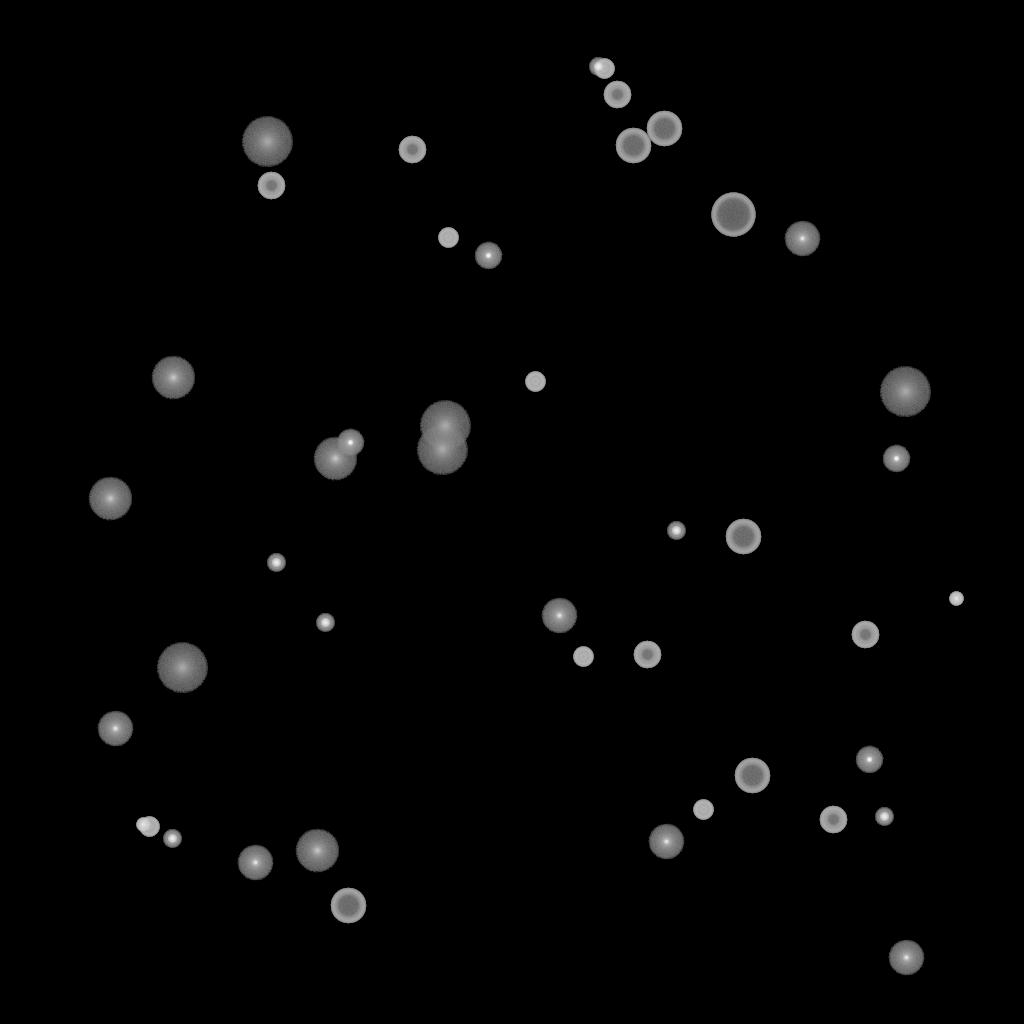depth:-10: (882, 445, 910, 473), (474, 242, 502, 270), (336, 429, 364, 457), (855, 746, 883, 774)
depth:-20: (267, 554, 285, 572), (667, 522, 685, 540), (875, 808, 893, 826), (589, 58, 607, 76), (163, 830, 181, 848), (316, 614, 334, 632)
depth:-30: (949, 592, 963, 606), (136, 818, 150, 832)
depth:-40: (525, 372, 545, 392), (139, 817, 159, 837), (594, 59, 614, 79), (438, 228, 458, 248), (573, 647, 593, 667), (693, 800, 713, 820)
depth:-50: (398, 136, 426, 164), (257, 172, 285, 200), (851, 621, 879, 649), (603, 81, 631, 109), (633, 641, 661, 669), (819, 806, 847, 834)
depth:-60: (615, 128, 651, 164), (725, 519, 761, 555), (734, 758, 770, 794), (646, 111, 682, 147), (330, 888, 366, 924)
depth:-70: (711, 193, 755, 237)
depth:0: (97, 711, 133, 747), (888, 940, 924, 976), (541, 598, 577, 634), (648, 824, 684, 860), (237, 845, 273, 881), (784, 221, 820, 257)
depth:10: (313, 437, 357, 481), (295, 829, 339, 873), (88, 477, 132, 521), (151, 356, 195, 400)
depth:20: (879, 367, 931, 417), (241, 117, 293, 167), (419, 401, 471, 451), (416, 425, 468, 475), (156, 643, 208, 693)
